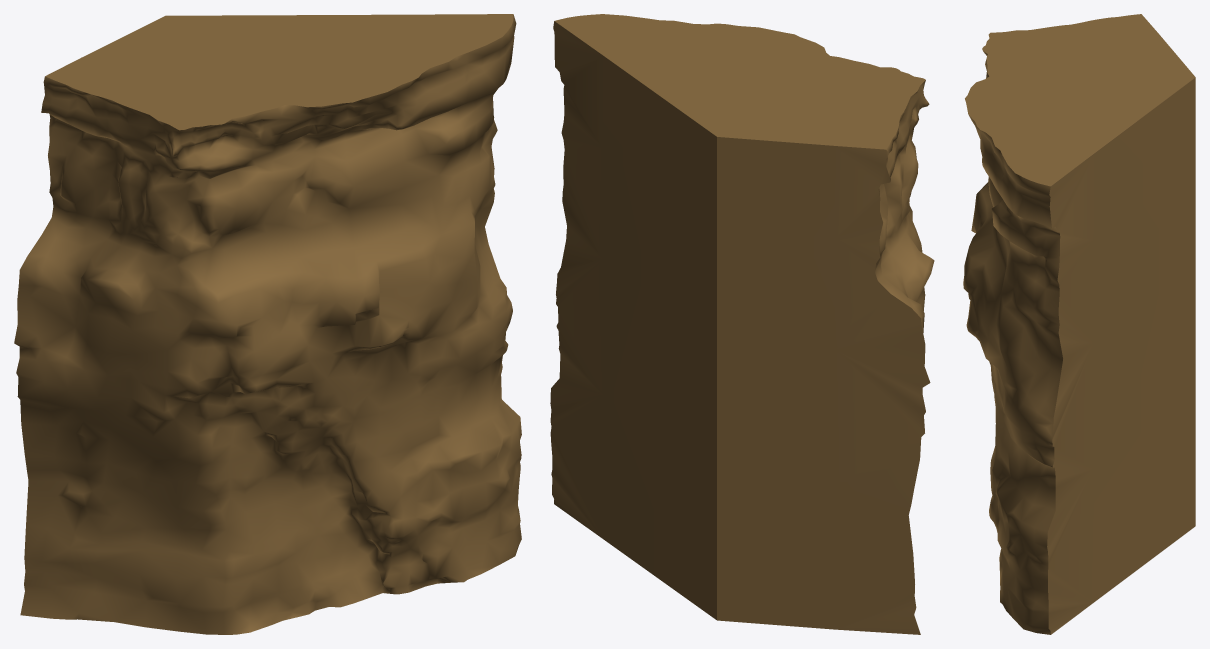
Rendered from MSH_Rocks_Cliff_04_a.FBX.
3 views of the same model, side by side, from view 1: azimuth 30°, elevation 25°; view 2: azimuth 150°, elevation 25°; view 3: azimuth 270°, elevation 25° (orthographic). The views are drawn at different scales.
Visible parts, largest first — view 1: MESH_LOD0, CAP_LOD0; view 2: CAP_LOD0, MESH_LOD0; view 3: CAP_LOD0, MESH_LOD0.
Boxes of the visible parts, x1,y1,x2,y2 form: MESH_LOD0: (14, 15, 521, 634); CAP_LOD0: (45, 14, 513, 130); CAP_LOD0: (550, 14, 930, 634); MESH_LOD0: (875, 80, 934, 407); CAP_LOD0: (965, 14, 1195, 634); MESH_LOD0: (963, 51, 1062, 634).
Size of what is drawn, in the model's own units: 605 by 661 by 310.
